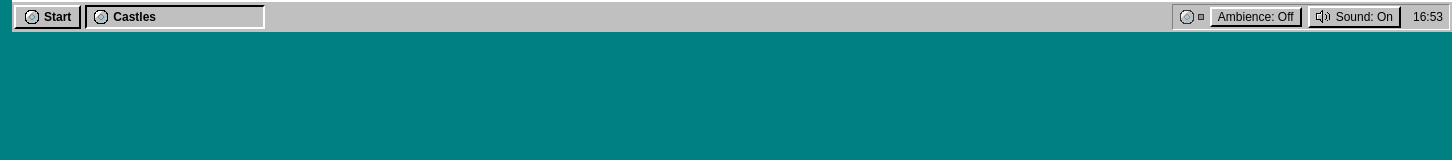
Taskbar Ambience toggle › turns the soundscape on and off
The image size is (1452, 160).
Click the button "Ambience: Off" at (1256, 17), box [1210,7,1302,27]
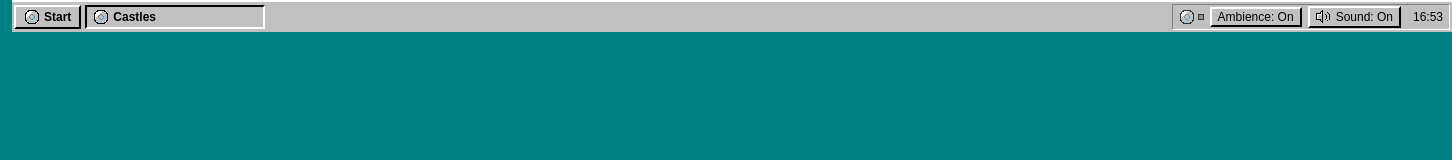
Result: the button "Ambience: On" is pressed
Click the button "Ambience: On" at (1256, 17), box [1210,7,1302,27]
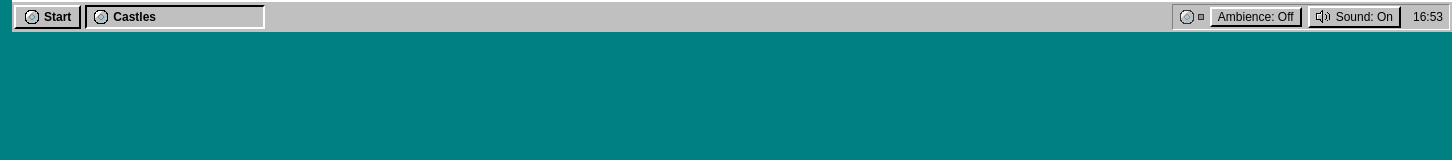
Result: the button "Ambience: Off" is shown at [1210,7,1302,27]
